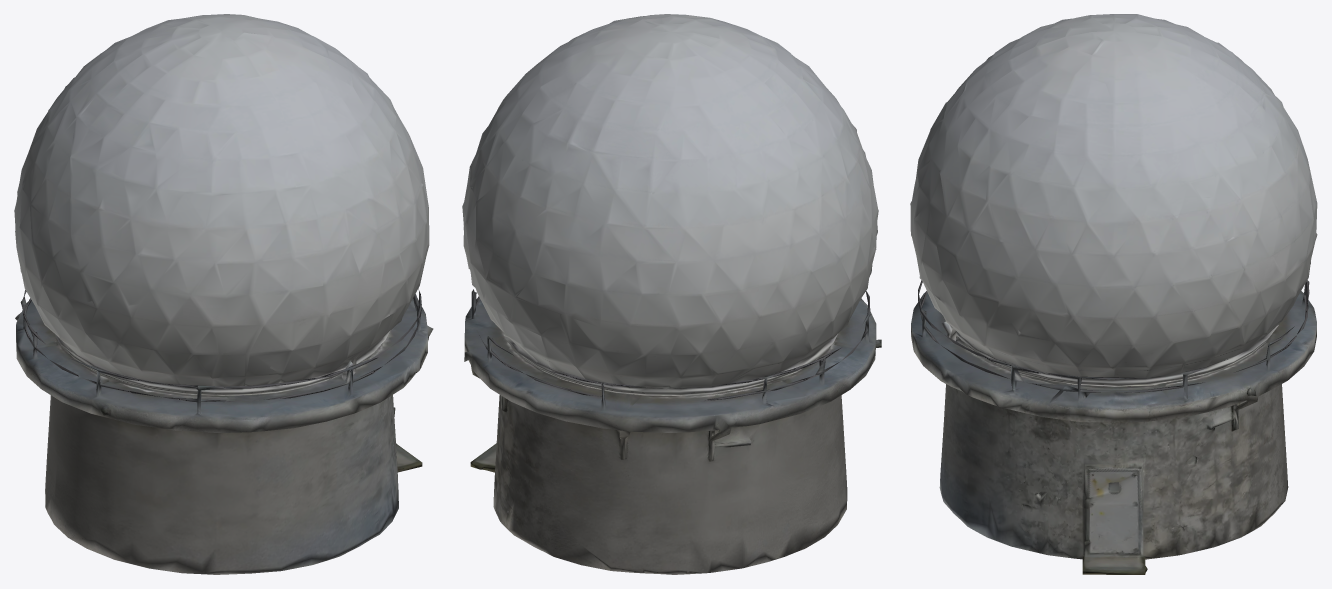
File: radar_dome.glb
3 views of the same model, side by side, from view 1: azimuth 30°, elevation 25°; view 2: azimuth 150°, elevation 25°; view 3: azimuth 270°, elevation 25° (orthographic). The views are drawn at different scales.
Visible parts, largest first — view 1: radar_dome; view 2: radar_dome; view 3: radar_dome.
Boxes of the visible parts, x1,y1,x2,y2 form: radar_dome: [14, 14, 433, 574]; radar_dome: [462, 14, 881, 574]; radar_dome: [910, 14, 1317, 574].
Bounding box in the file's own units: 14.68 × 18 × 14.55.
1 material, 1 textured.
